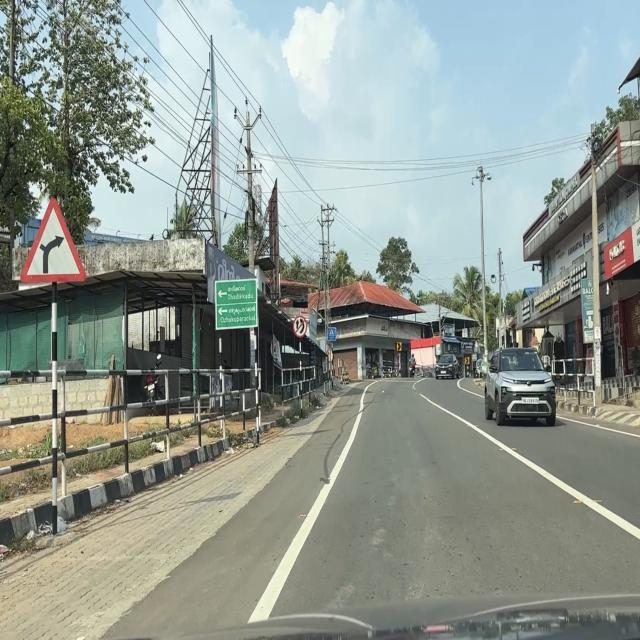GENERAL: (214, 278, 258, 330)
OVERTAKING_PROHIBITED: (293, 315, 307, 339)
RIGHT_TURN_AHEAD: (20, 197, 87, 284)
